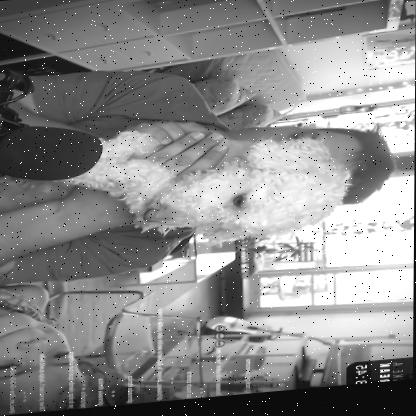streamer: (0, 51, 398, 287), (0, 278, 109, 416)
